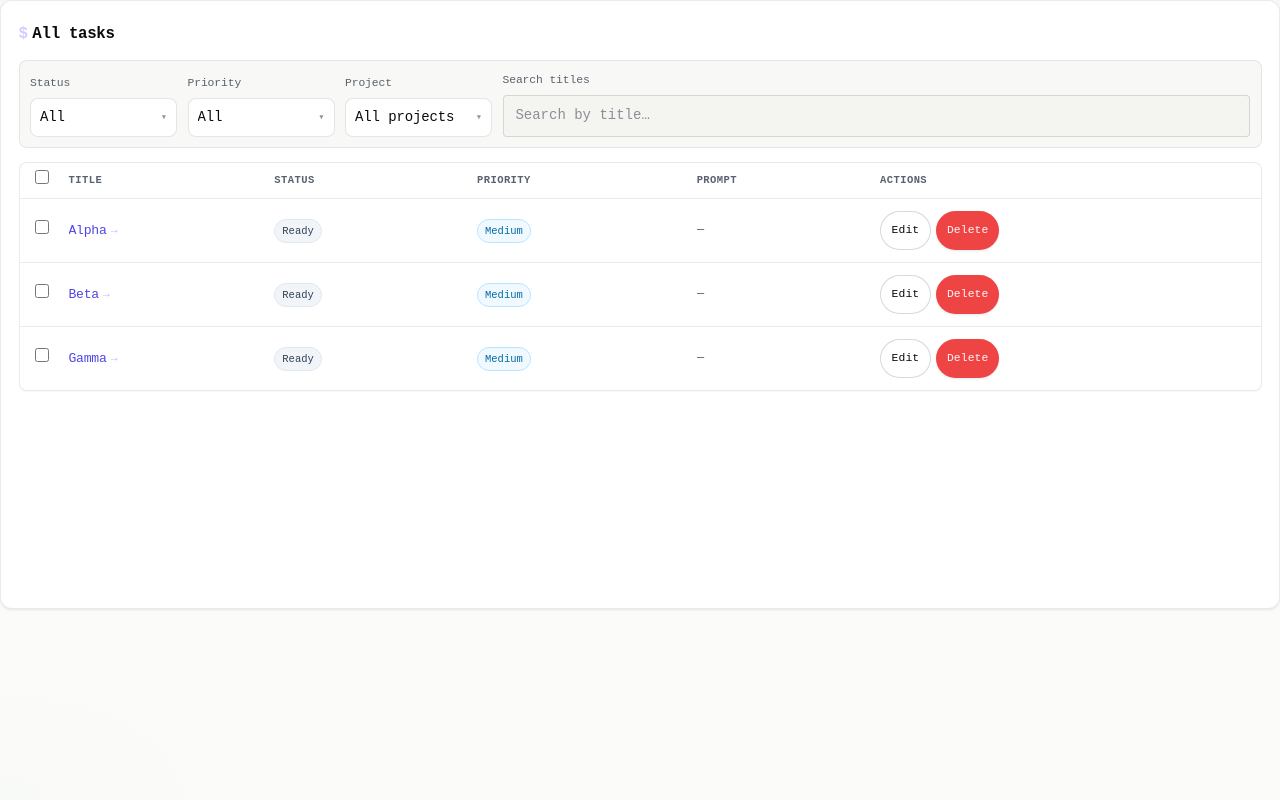
it: TaskListSection › bulk reschedule › partial failure surfaces an aggregate error and keeps the bar visible
Click the checkbox with test id "task-list-select-all": (42, 177) [35,170,49,184]
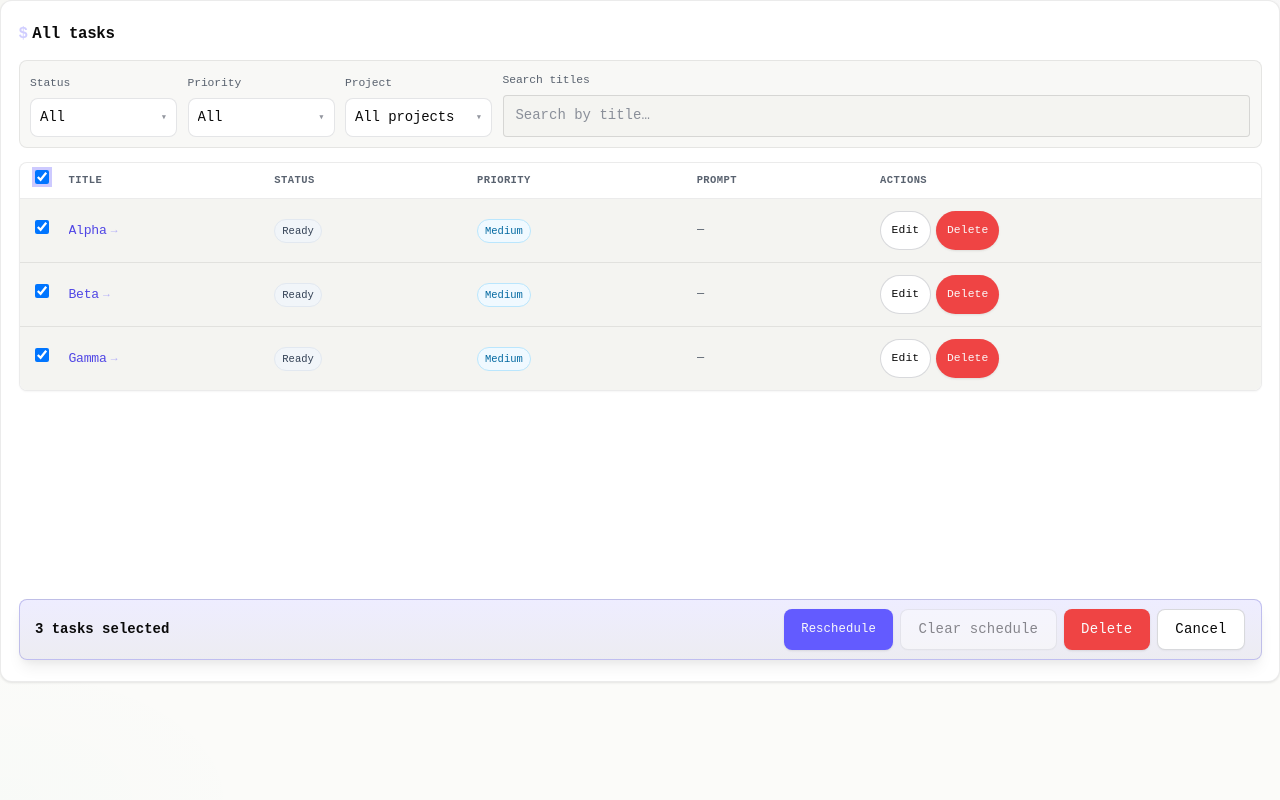
Click the button with test id "task-list-bulk-bar-reschedule": (839, 630) [784,609,893,650]
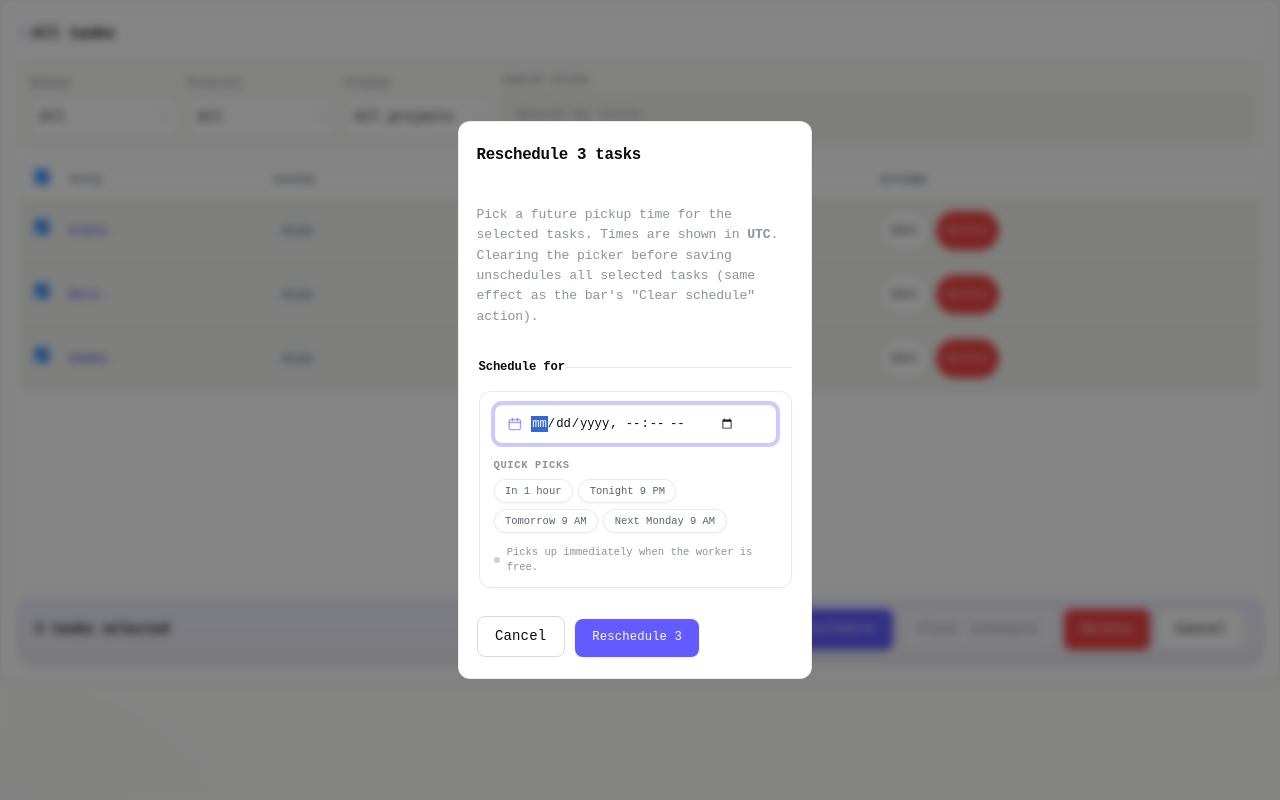
Click the button with test id "schedule-picker-in-1h": (533, 491) [494,479,573,504]
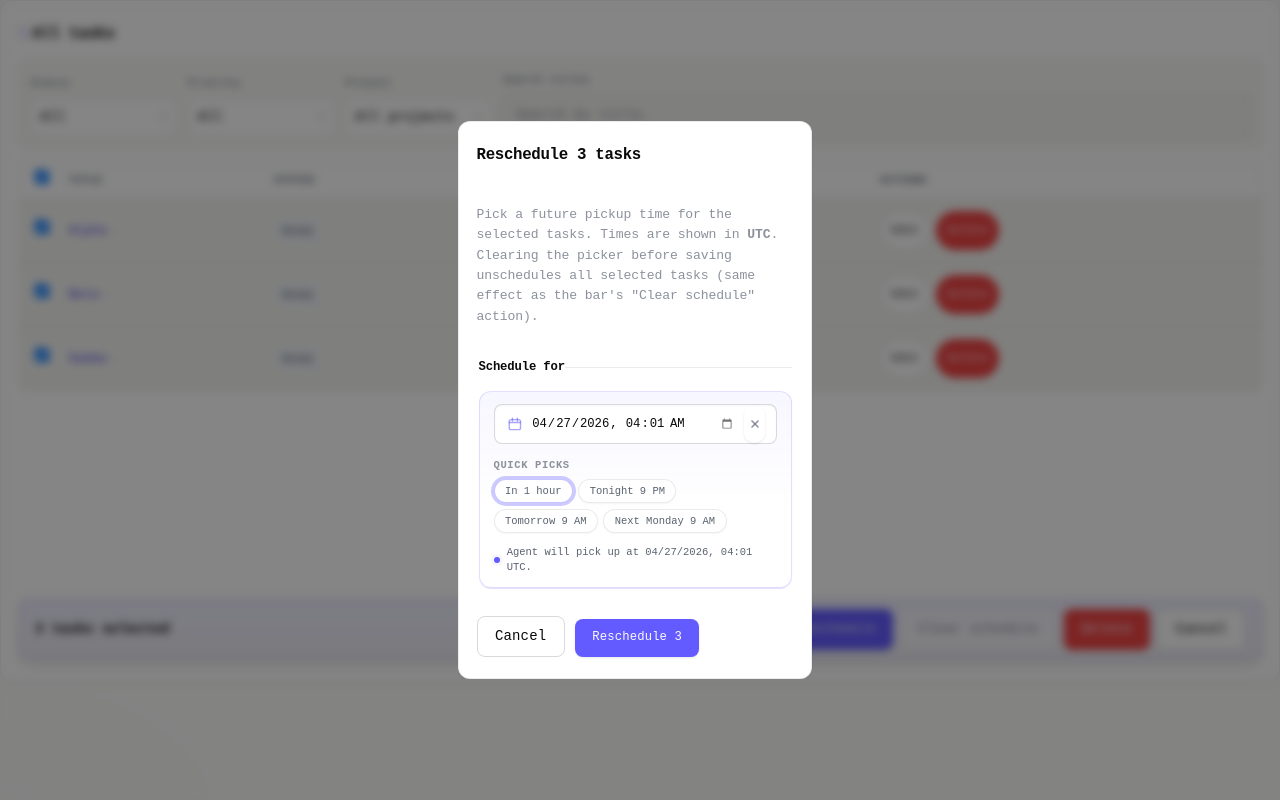
Click the button with test id "task-bulk-reschedule-submit": (637, 638) [575,619,699,657]
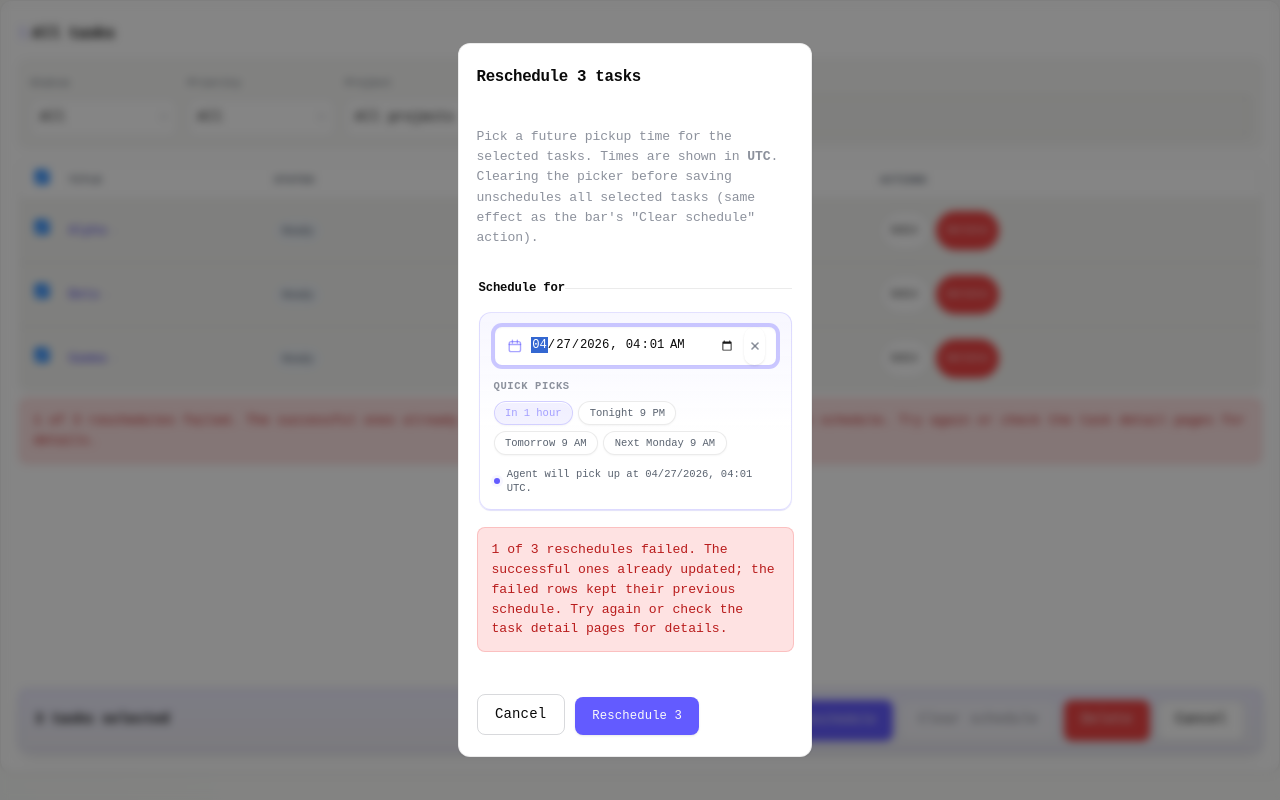
Check: the message with test id "task-list-bulk-error" shows "1 of 3", box [34,413,1245,448]
